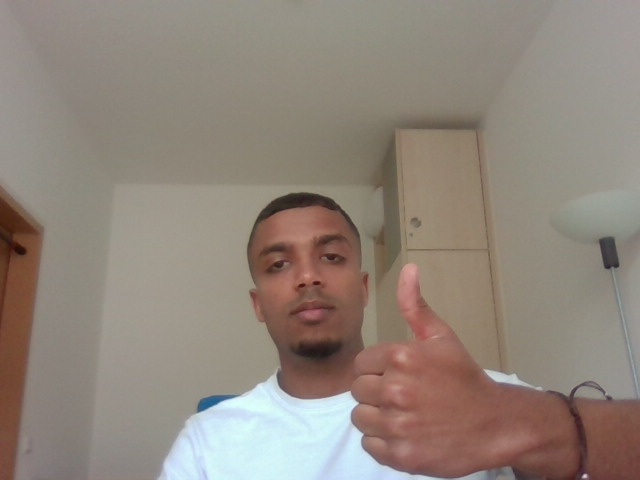yes: (343, 256, 535, 480)
